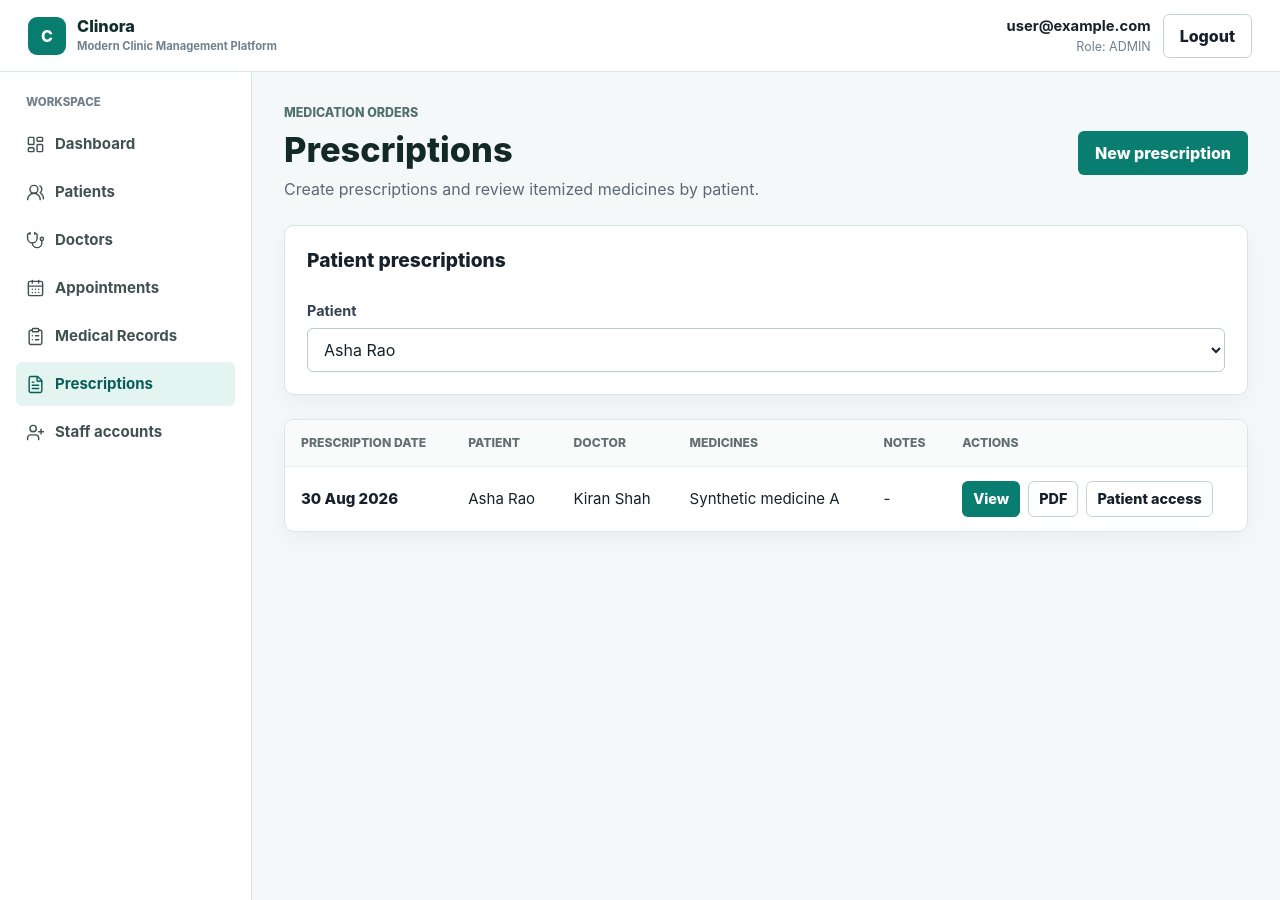
Scenario: PrescriptionsPage › does not render development seed markers in prescription notes
This screenshot has width=1280, height=900.
What coordinates should you click on to do the following:
click the button "View"
I would click on:
 (991, 499)
Its box is 962,481 -> 1020,517.
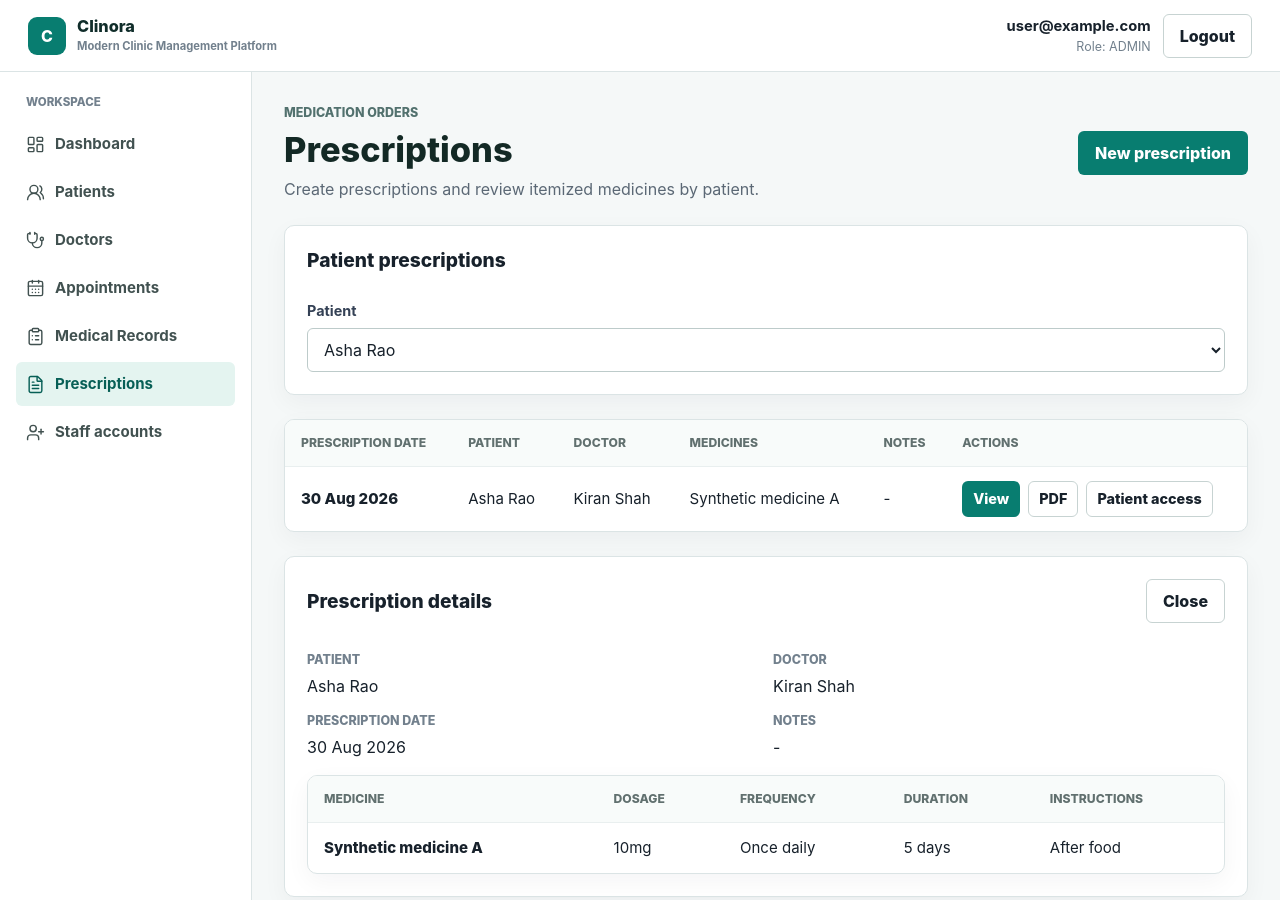
Result: the heading "Prescription details" is shown at 307,589 -> 492,613
